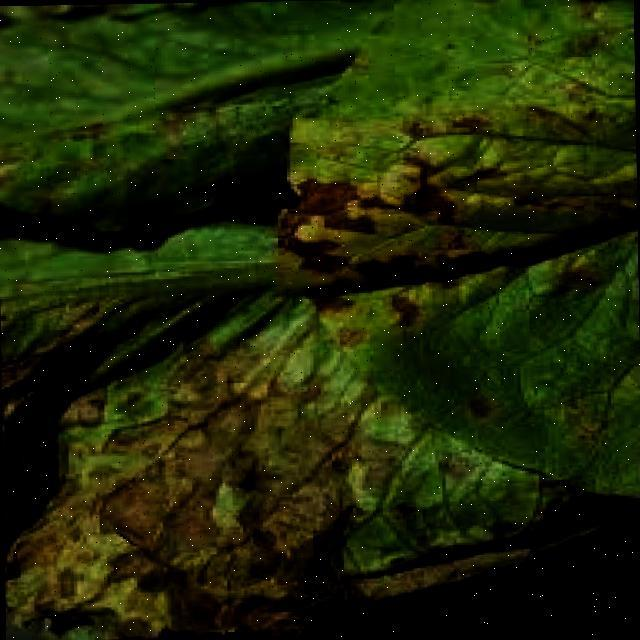Septoria_Blight_on_lettuce: (281, 39, 638, 433), (38, 443, 397, 604)
